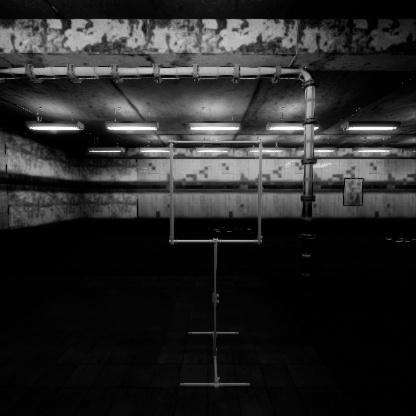gate: (169, 171, 271, 275)
